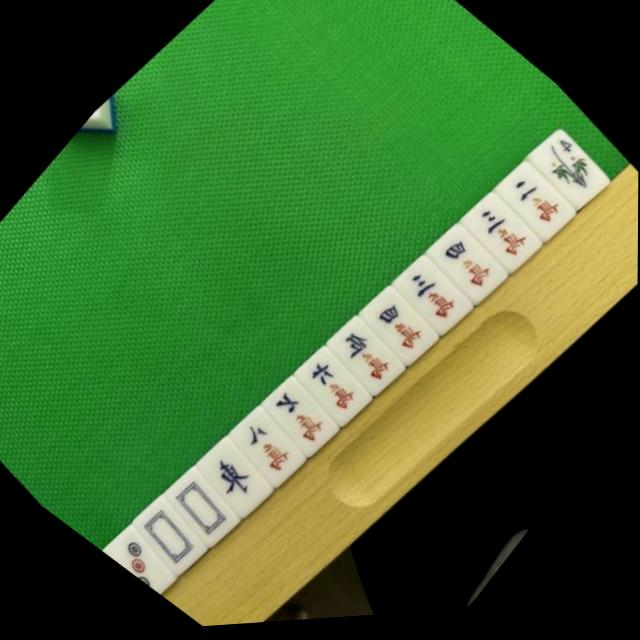bf4: (515, 121, 613, 219)
hdw: (155, 460, 250, 554), (124, 488, 217, 581)
hwe: (186, 429, 282, 526)
sc2: (483, 152, 582, 252)
sc3: (448, 182, 549, 283), (382, 247, 478, 343)
sc4: (347, 275, 448, 377), (415, 213, 515, 315)
sc5: (317, 308, 413, 404)
sc6: (284, 338, 380, 434)
sc7: (251, 369, 347, 465)
sc8: (220, 399, 315, 495)
sd3: (100, 518, 186, 601)
